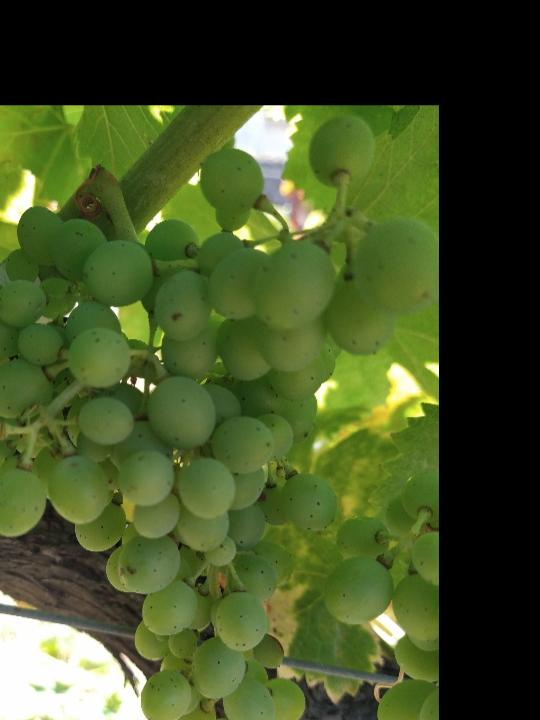grape: (0, 113, 435, 720)
